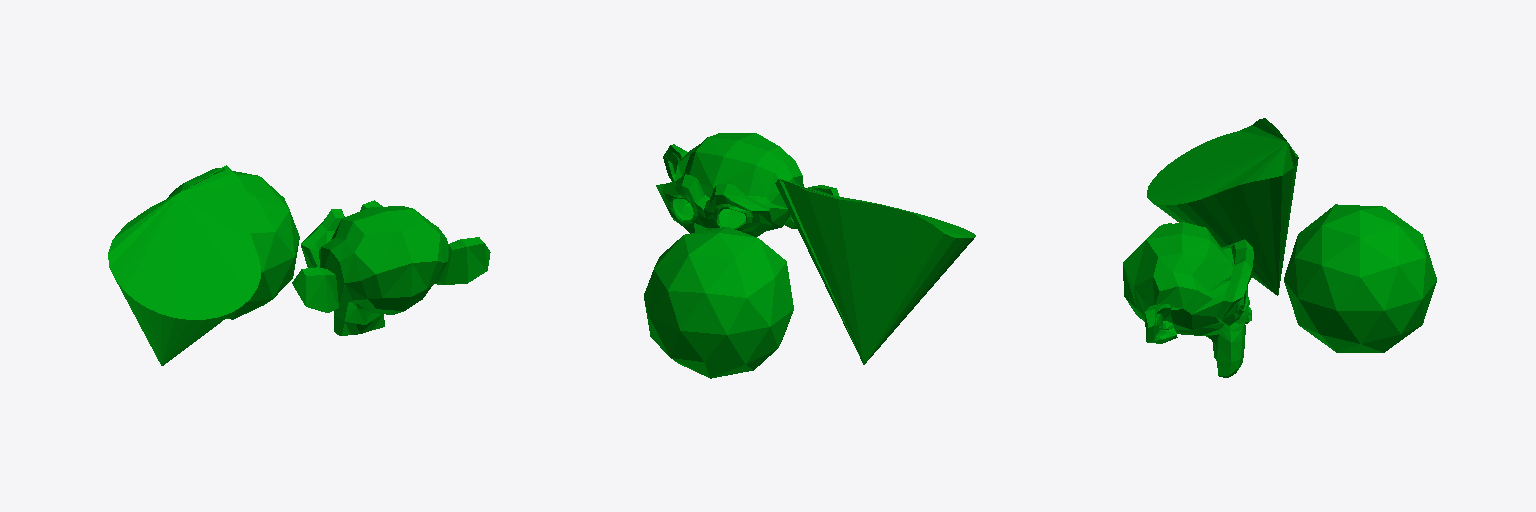
The model's file is room2.obj.
3 views of the same model, side by side, from view 1: azimuth 30°, elevation 25°; view 2: azimuth 150°, elevation 25°; view 3: azimuth 270°, elevation 25° (orthographic).
Visible parts, largest first — view 1: Objects_Cube.001; view 2: Objects_Cube.001; view 3: Objects_Cube.001.
Part boxes in pixels (left/top/right/bottom): Objects_Cube.001: left=108, top=165, right=490, bottom=365; Objects_Cube.001: left=644, top=133, right=975, bottom=378; Objects_Cube.001: left=1123, top=118, right=1436, bottom=377.
Size of the model in its own units: 5.07 by 2.56 by 4.09.